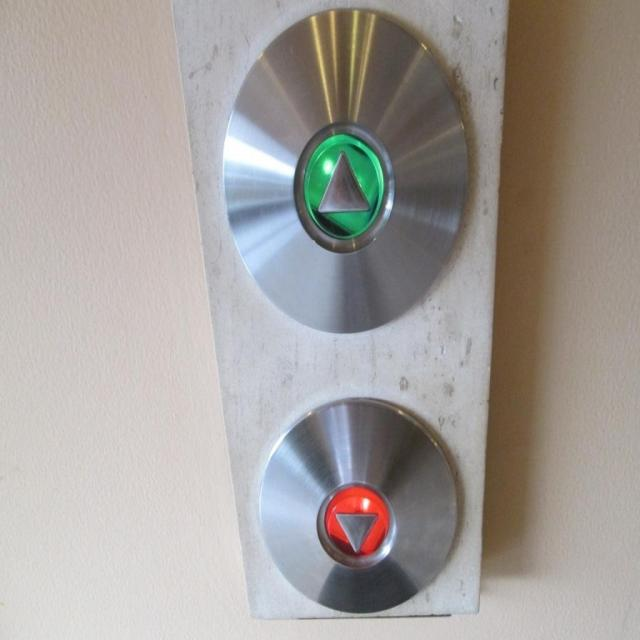down: (256, 391, 466, 617)
up: (220, 4, 472, 337)
